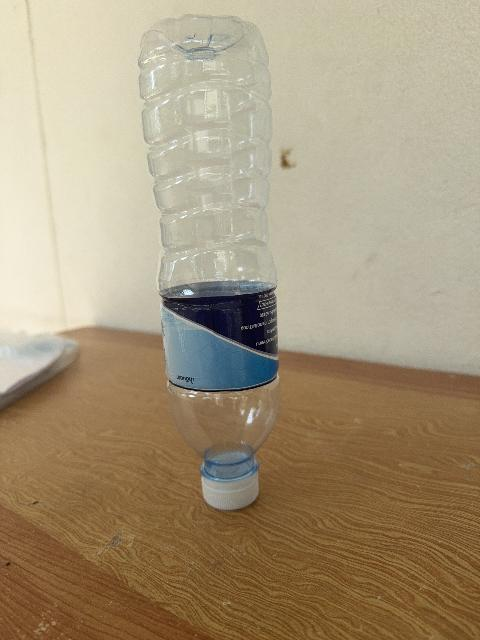bottle: (139, 15, 279, 509)
